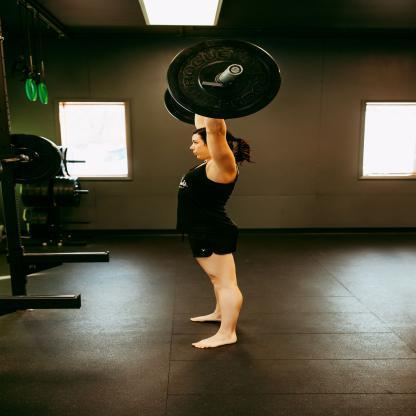barbell: (167, 36, 282, 120)
